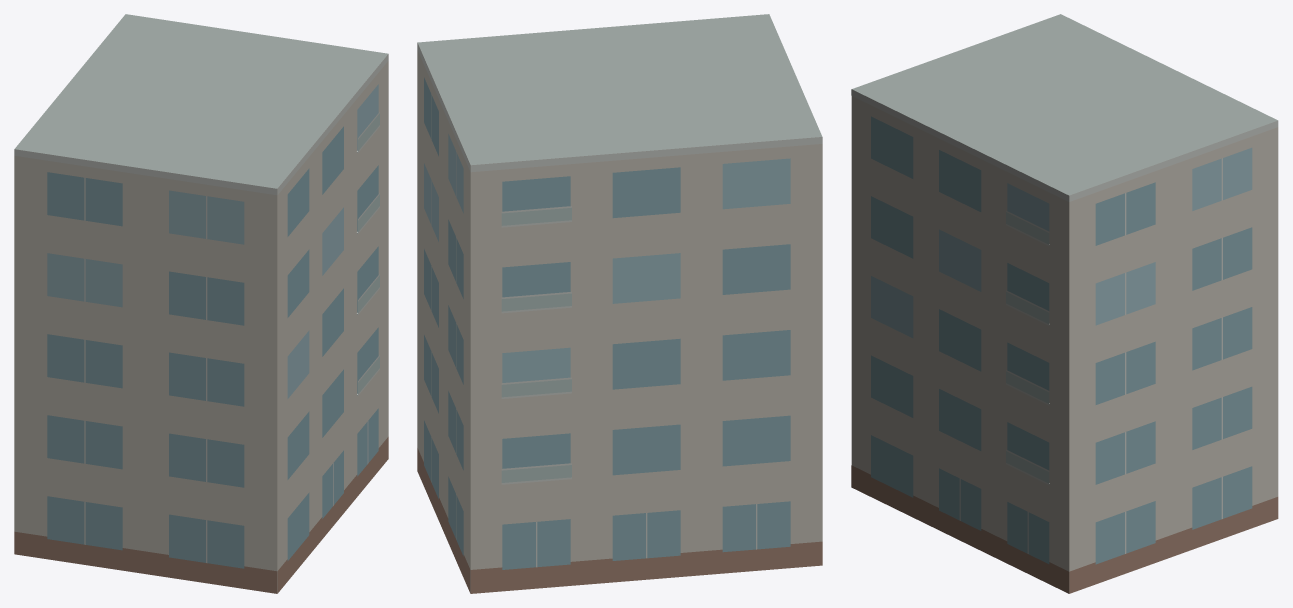
File: survey-upis-32638118.glb
3 renders of one model, left to right at view 1: azimuth 30°, elevation 25°; view 2: azimuth 150°, elevation 25°; view 3: azimuth 270°, elevation 25°, orthographic. The views are drawn at different scales.
Parts seen in each view (by area): view 1: survey-upis-32638118.tmp; view 2: survey-upis-32638118.tmp; view 3: survey-upis-32638118.tmp.
Boxes of the visible parts, <box> form: survey-upis-32638118.tmp: <box>14,14,388,593</box>; survey-upis-32638118.tmp: <box>417,14,822,593</box>; survey-upis-32638118.tmp: <box>851,14,1278,593</box>.
Bounding box in the file's own units: 14.63 × 14.95 × 14.53.
